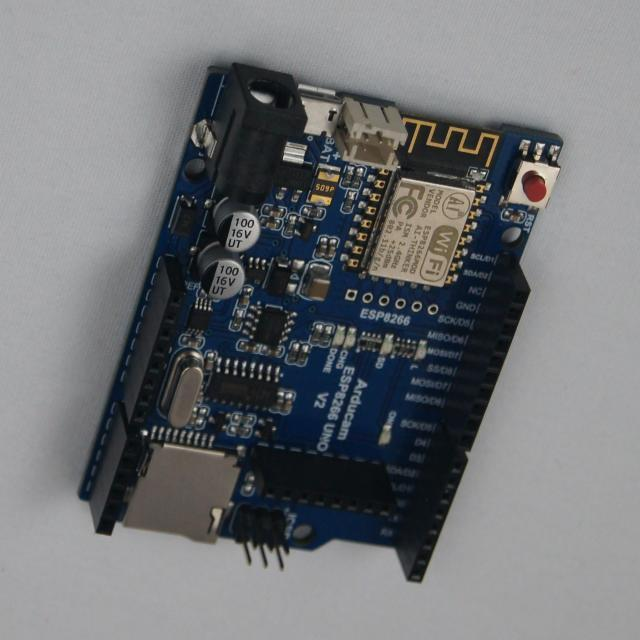Arduino Uno Camera Shield: (80, 64, 562, 582)
